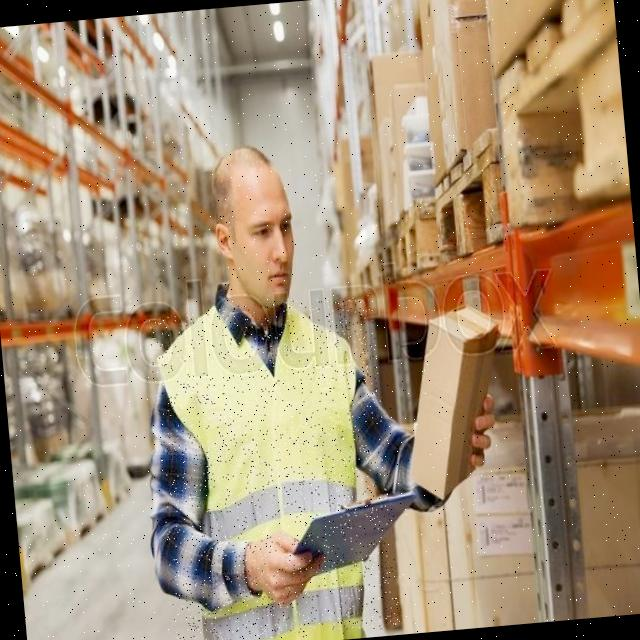vest: (146, 293, 400, 640)
